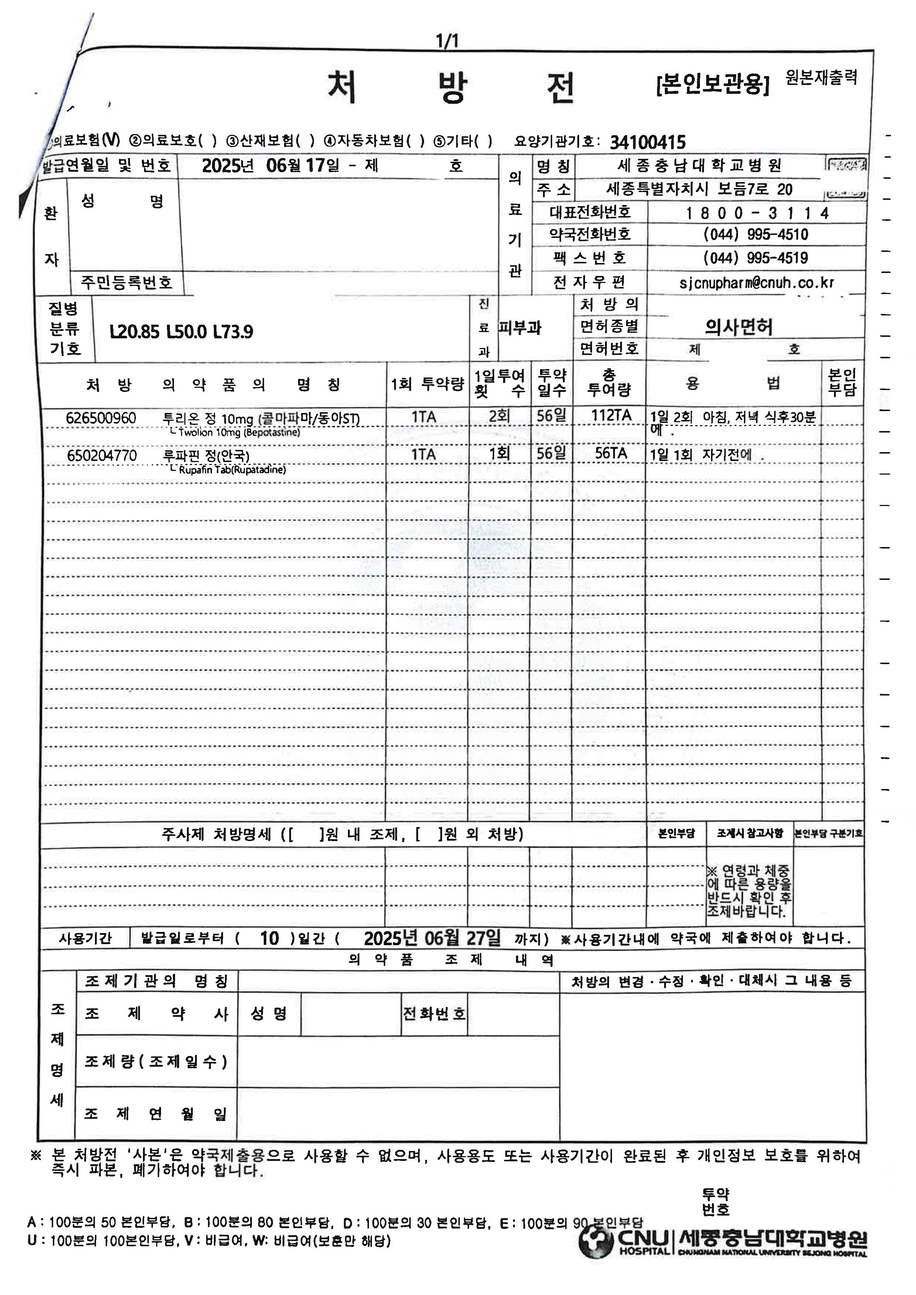row: (38, 950, 560, 1141), (29, 51, 876, 156), (37, 823, 865, 927), (25, 155, 498, 298), (560, 957, 864, 1138), (499, 154, 872, 297), (25, 363, 864, 407), (25, 445, 864, 484), (24, 406, 864, 444), (25, 297, 470, 362), (573, 295, 866, 360), (38, 927, 865, 950), (471, 295, 573, 360)
